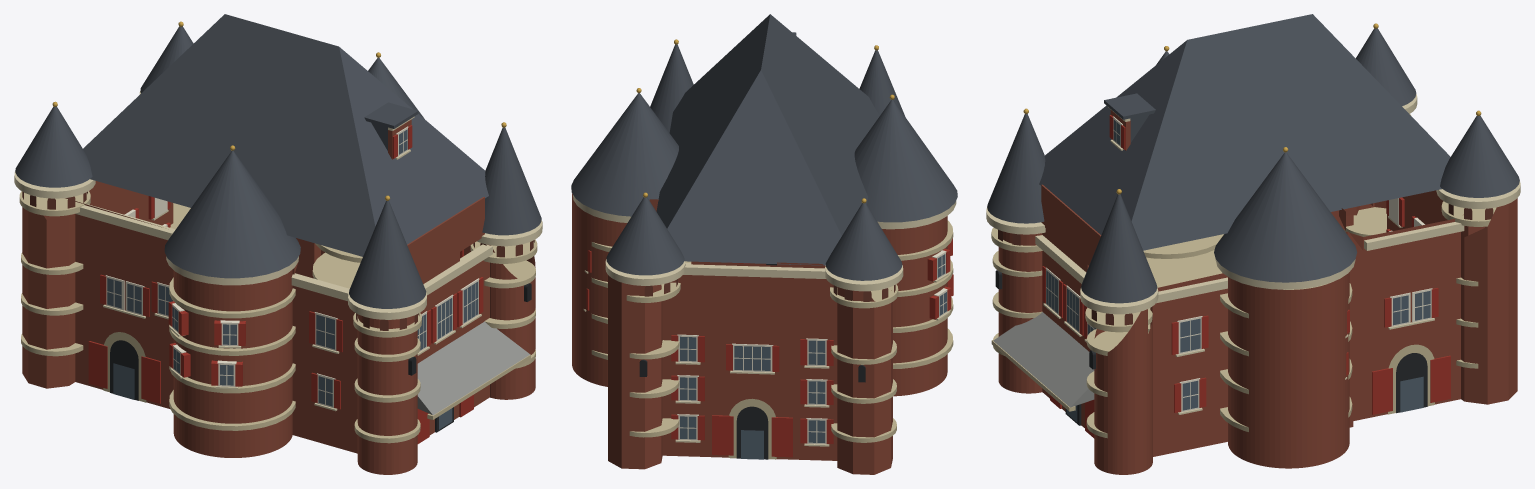
Rendered from waag.glb.
3 renders of one model, left to right at view 1: azimuth 30°, elevation 25°; view 2: azimuth 150°, elevation 25°; view 3: azimuth 270°, elevation 25°, orthographic. The views are drawn at different scales.
Parts seen in each view (by area): view 1: waag; view 2: waag; view 3: waag.
Part boxes in pixels (left/top/right/bottom): waag: left=14, top=14, right=542, bottom=474; waag: left=571, top=14, right=957, bottom=474; waag: left=986, top=14, right=1520, bottom=474.
Bounding box in the file's own units: 26.2 × 22.5 × 30.66.
